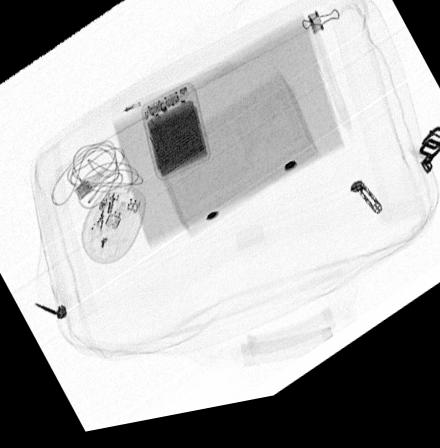Powerbank: (138, 88, 209, 187)
